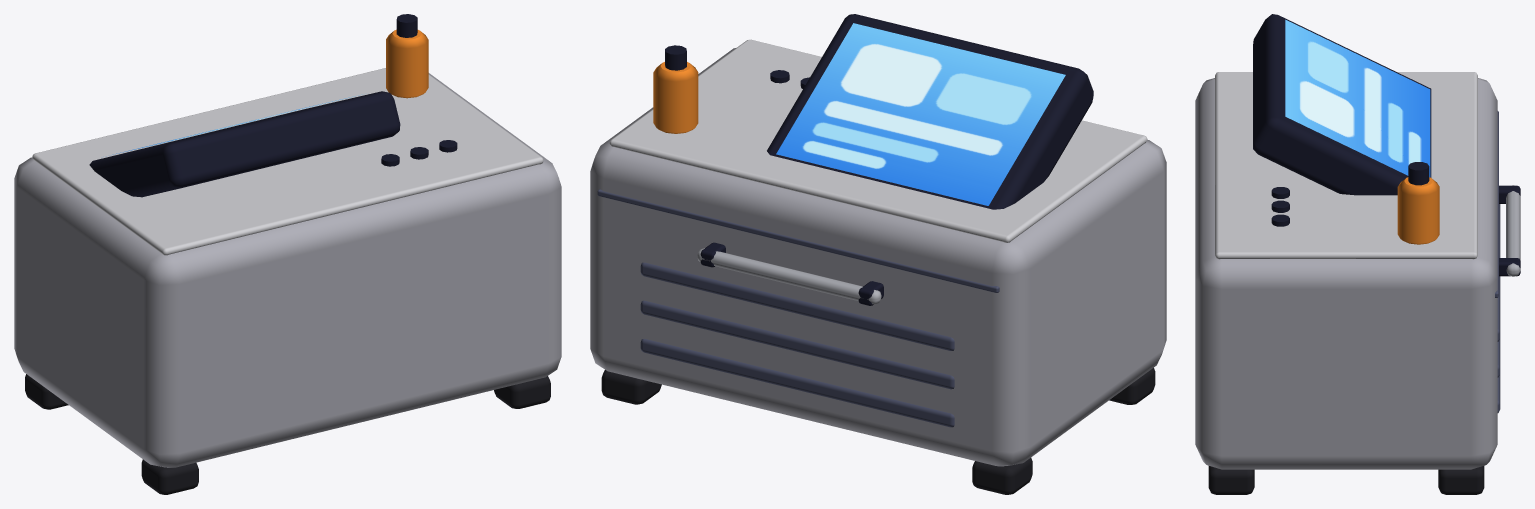
File: prop.props_workrooms.galley_floor_unit.glb
3 renders of one model, left to right at view 1: azimuth 30°, elevation 25°; view 2: azimuth 150°, elevation 25°; view 3: azimuth 270°, elevation 25°, orthographic. The views are drawn at different scales.
Parts seen in each view (by area): view 1: prop.props_workrooms.galley_floor_unit; view 2: prop.props_workrooms.galley_floor_unit; view 3: prop.props_workrooms.galley_floor_unit.
Boxes of the visible parts, left/top/right/bottom form: prop.props_workrooms.galley_floor_unit: left=14, top=14, right=561, bottom=494; prop.props_workrooms.galley_floor_unit: left=590, top=14, right=1166, bottom=494; prop.props_workrooms.galley_floor_unit: left=1195, top=14, right=1520, bottom=494.
Bounding box in the file's own units: 0.72 × 0.53 × 0.495.
8 materials, 1 textured.
